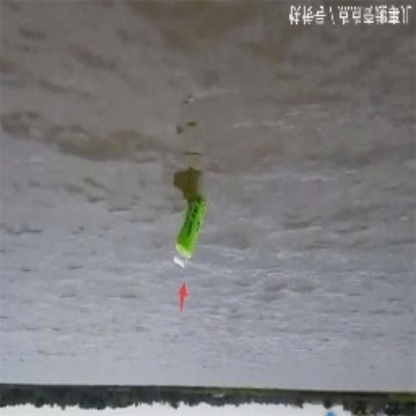bottle: (170, 193, 209, 271)
